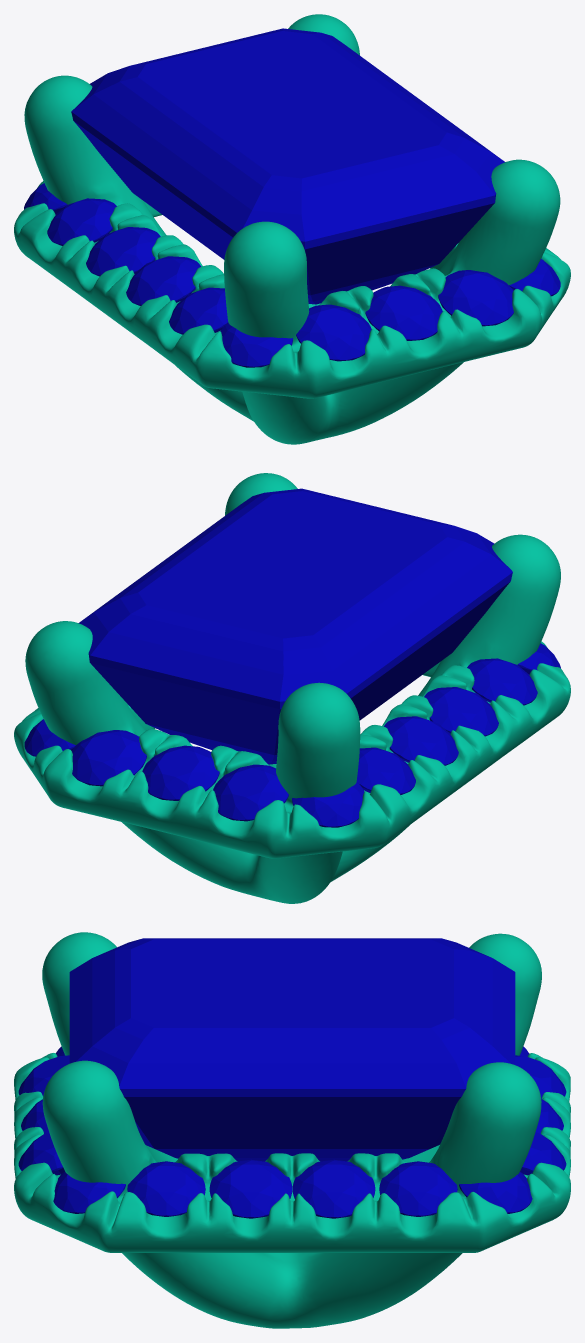
File: Emerald.glb
3 renders of one model, top to bottom at view 1: azimuth 30°, elevation 25°; view 2: azimuth 150°, elevation 25°; view 3: azimuth 270°, elevation 25°, orthographic. The views are drawn at different scales.
Parts seen in each view (by area): view 1: Diamond_Emerald, /Emerald Single Halo.3dm, Diamond_Round (×10); view 2: Diamond_Emerald, /Emerald Single Halo.3dm, Diamond_Round (×10); view 3: Diamond_Emerald, /Emerald Single Halo.3dm, Diamond_Round (×12).
Part boxes in pixels (x1=…): Diamond_Emerald: x1=71, y1=28, x2=504, y2=304; /Emerald Single Halo.3dm: x1=14, y1=14, x2=570, y2=444; Diamond_Round (×10): x1=24, y1=183, x2=560, y2=367; Diamond_Emerald: x1=78, y1=488, x2=512, y2=764; /Emerald Single Halo.3dm: x1=14, y1=473, x2=570, y2=903; Diamond_Round (×10): x1=24, y1=643, x2=560, y2=827; Diamond_Emerald: x1=69, y1=938, x2=515, y2=1161; /Emerald Single Halo.3dm: x1=14, y1=932, x2=570, y2=1328; Diamond_Round (×12): x1=18, y1=1055, x2=566, y2=1218.
Bounding box in the file's own units: 8.08 × 6.78 × 10.05.
